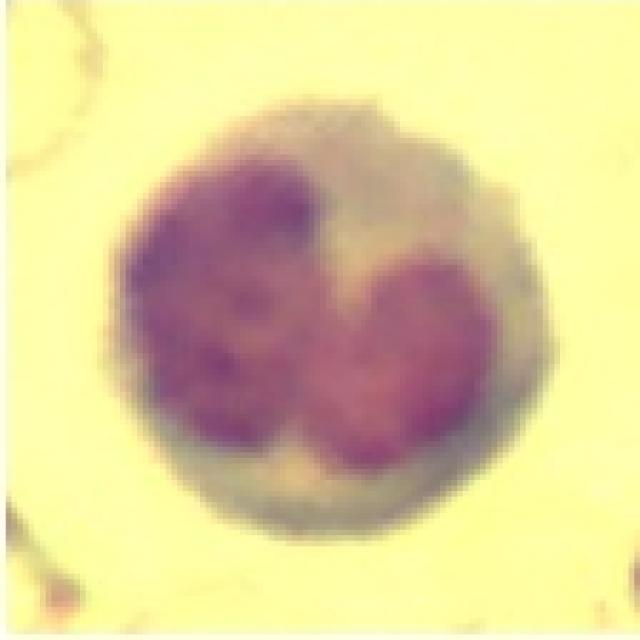WBC: (91, 72, 588, 546)
